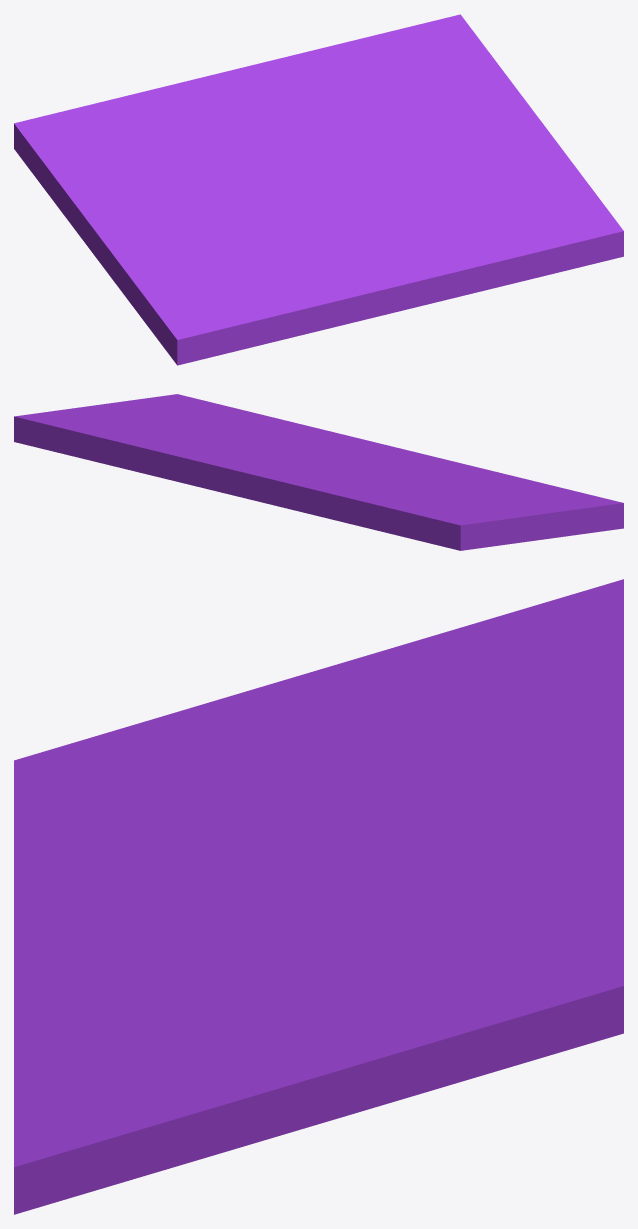
File: Window_157_chunks.fbx
The picture shows the model from 3 angles, top to bottom: view 1: azimuth 30°, elevation 25°; view 2: azimuth 150°, elevation 25°; view 3: azimuth 270°, elevation 25°; orthographic projection. The views are drawn at different scales.
Visible parts, largest first — view 1: Window_157_2, Window_157_0, Window_157_3, Window_157_1; view 2: Window_157_3, Window_157_2, Window_157_0, Window_157_1; view 3: Window_157_2, Window_157_0, Window_157_3, Window_157_1.
Boxes of the visible parts, box(x1,y1,x2,y2) form: Window_157_2: box(317, 14, 623, 284); Window_157_0: box(76, 175, 430, 365); Window_157_3: box(14, 45, 333, 234); Window_157_1: box(370, 228, 506, 318); Window_157_3: box(137, 447, 525, 550); Window_157_2: box(14, 394, 332, 471); Window_157_0: box(318, 441, 623, 541); Window_157_1: box(329, 431, 370, 446); Window_157_2: box(14, 870, 623, 1214); Window_157_0: box(14, 648, 391, 990); Window_157_3: box(325, 579, 623, 871); Window_157_1: box(14, 950, 153, 1028).
Size of the model in its own units: 1838 by 482 by 1165.
